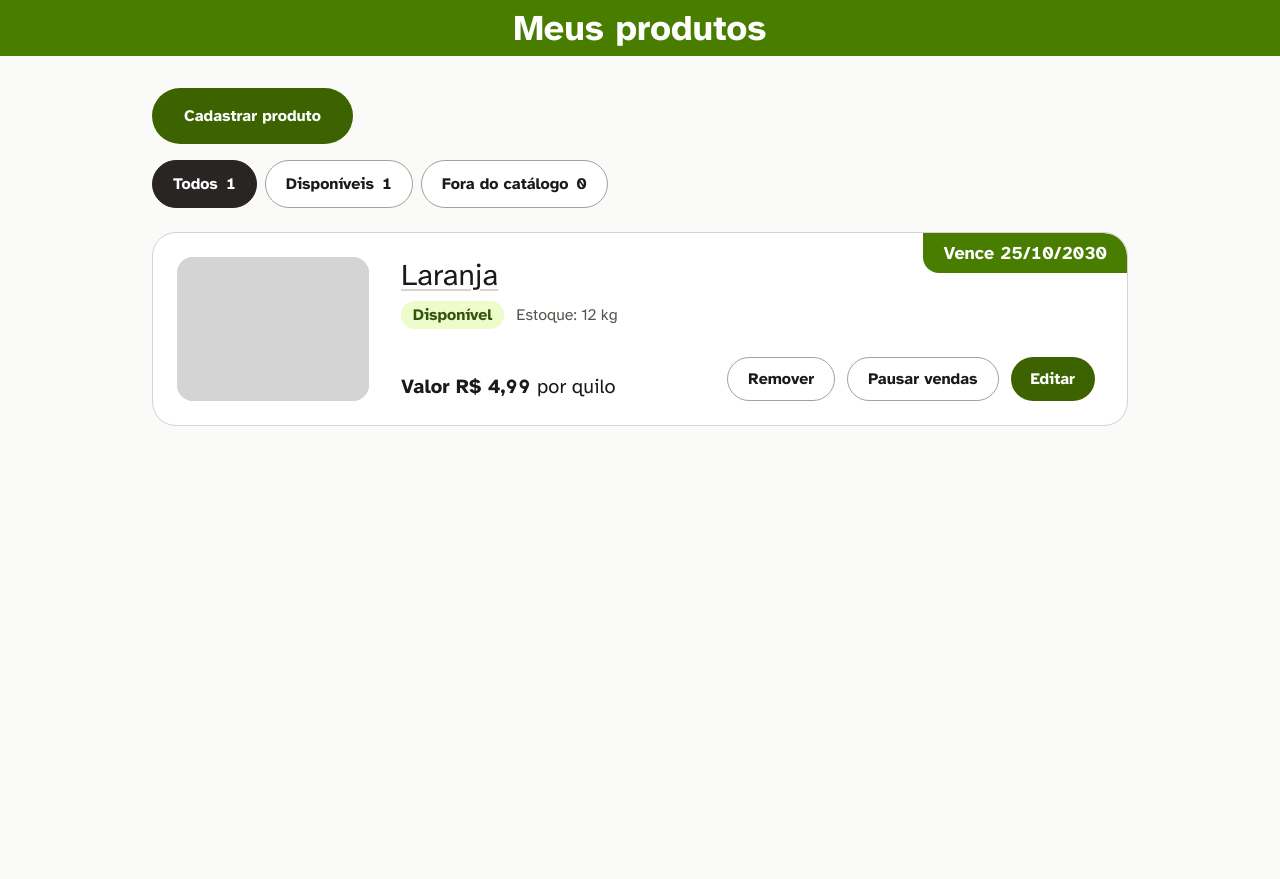
MyProducts, sending the product's photo › opens the link when the product already uses one
Click the button "Editar": (1053, 379) [1010, 357, 1095, 401]
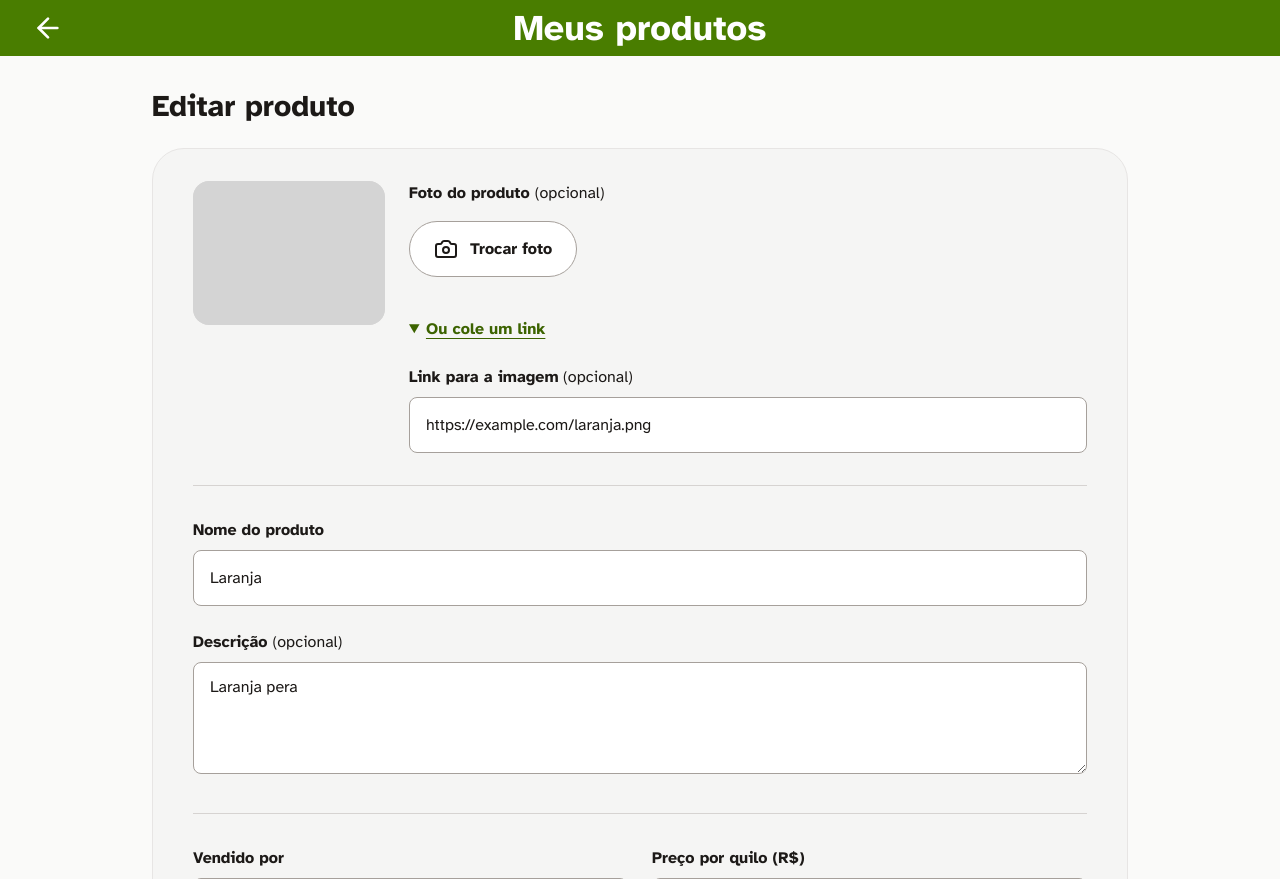
Expected: the field labelled "Link para a imagem (opcional)" holds "https://example.com/laranja.png", [409, 397, 1087, 453]
